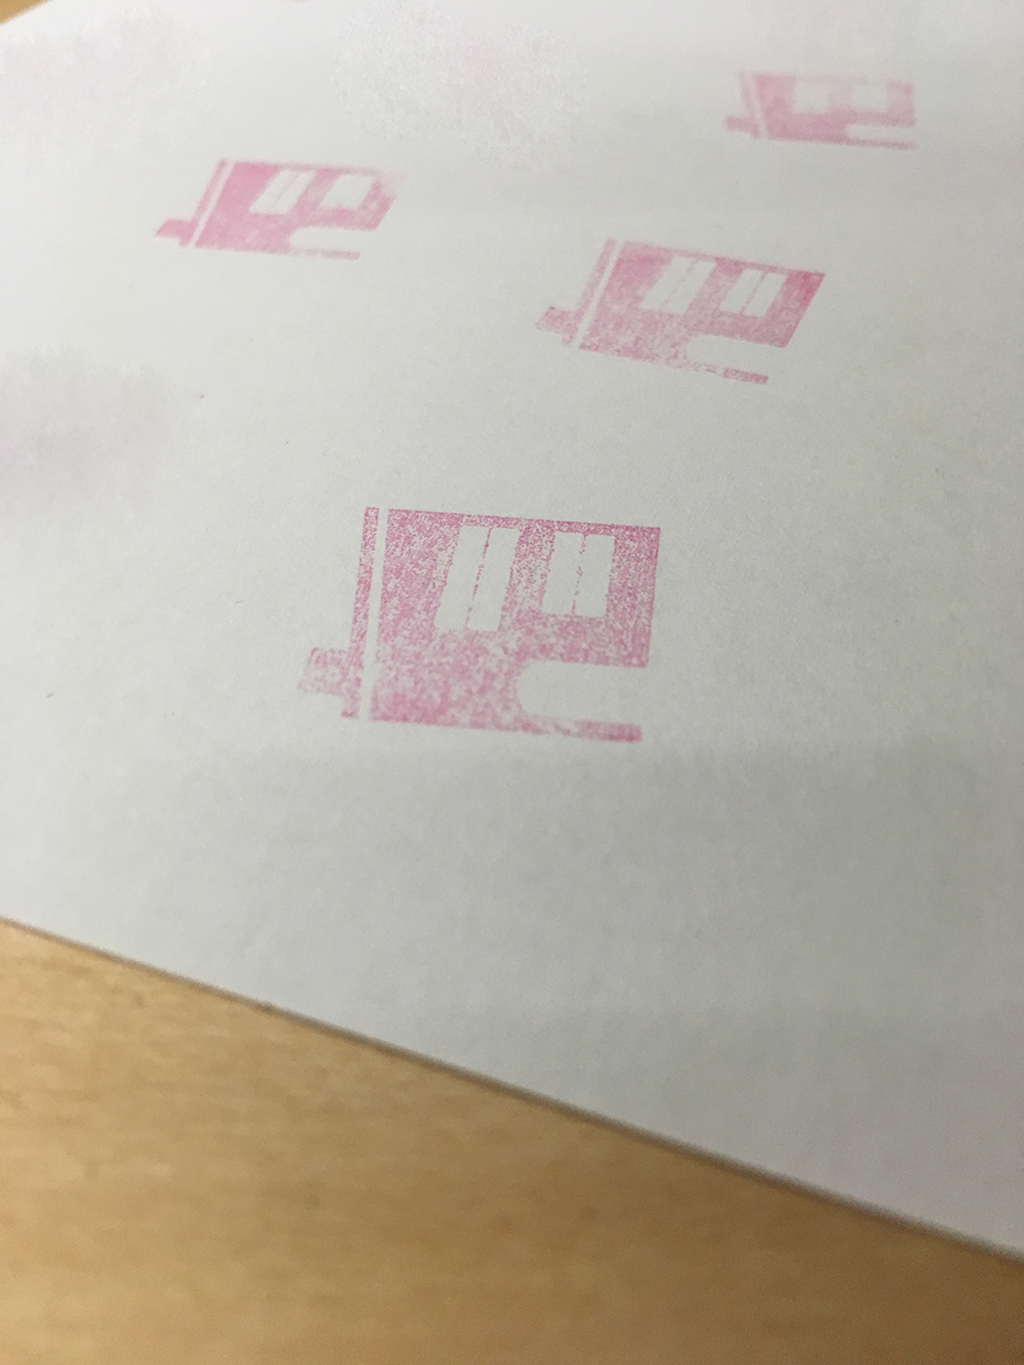house: (286, 474, 681, 765), (524, 219, 845, 388), (141, 139, 423, 281), (710, 51, 929, 166)
